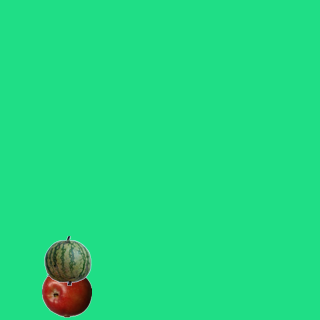Apple Braeburn: (41, 267, 91, 317)
Watermelon: (42, 235, 92, 285)
